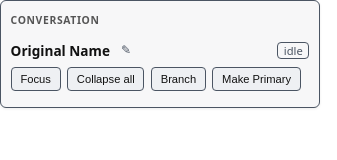
Scenario: ConversationThreadBox — rename UI › saves on blur, same as Enter
Click the button with class "thread-rename-button".
click(126, 50)  # box [114, 38, 138, 62]
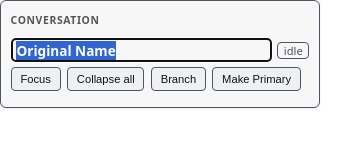
Replace the text in the field with class "thread-title-input" with "Blurred Name" at (141, 50), box [11, 38, 272, 62]
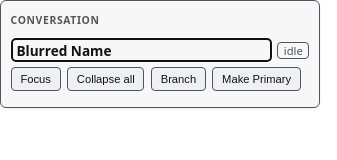
Leave the field with class "thread-title-input", box [11, 38, 272, 62]
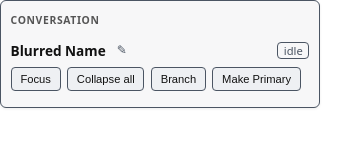
Expected: the text with class "thread-title" reads "Blurred Name", [11, 41, 106, 60]
